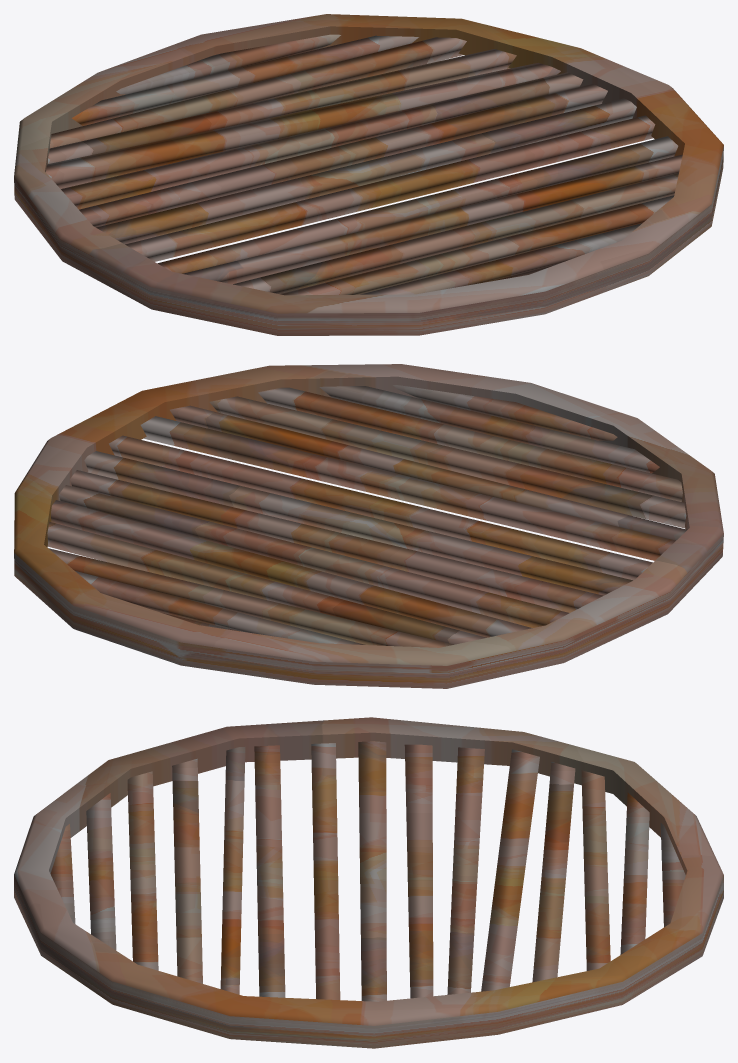
The model's file is SW_GridCover.fbx.
The picture shows the model from 3 angles, top to bottom: view 1: azimuth 30°, elevation 25°; view 2: azimuth 150°, elevation 25°; view 3: azimuth 270°, elevation 25°; orthographic projection. The views are drawn at different scales.
Parts seen in each view (by area): view 1: SW_GridCover; view 2: SW_GridCover; view 3: SW_GridCover.
Part boxes in pixels (bbox=[...]): SW_GridCover: bbox=[14, 14, 723, 335]; SW_GridCover: bbox=[14, 364, 723, 688]; SW_GridCover: bbox=[14, 717, 723, 1048].
Size of the model in its own units: 920 by 38.92 by 901.
